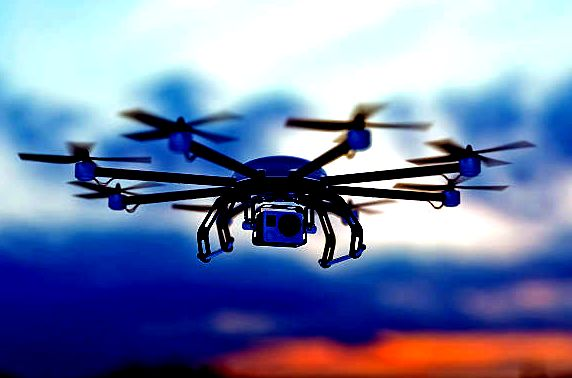Drone: (14, 103, 538, 269)
